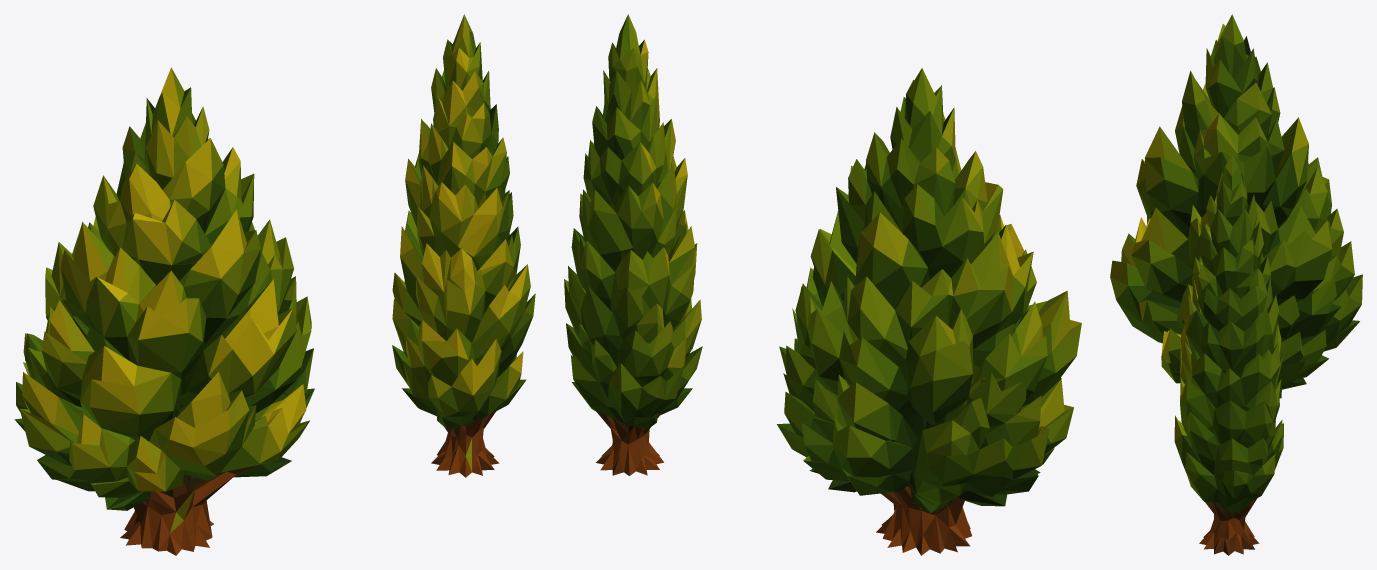
File: ciprestes.glb
The picture shows the model from 3 angles, left to right: view 1: azimuth 30°, elevation 25°; view 2: azimuth 150°, elevation 25°; view 3: azimuth 270°, elevation 25°; orthographic projection. The views are drawn at different scales.
Visible parts, largest first — view 1: Cipreste1_Redondo, Cipreste2_Esguio; view 2: Cipreste1_Redondo, Cipreste2_Esguio; view 3: Cipreste1_Redondo, Cipreste2_Esguio.
Boxes of the visible parts, bbox=[...] form: Cipreste1_Redondo: bbox=[14, 67, 314, 555]; Cipreste2_Esguio: bbox=[392, 14, 535, 477]; Cipreste1_Redondo: bbox=[777, 68, 1081, 555]; Cipreste2_Esguio: bbox=[564, 14, 702, 475]; Cipreste1_Redondo: bbox=[1110, 14, 1362, 398]; Cipreste2_Esguio: bbox=[1174, 154, 1284, 555].
Size of the model in its own units: 4.94 by 4.51 by 2.55.
